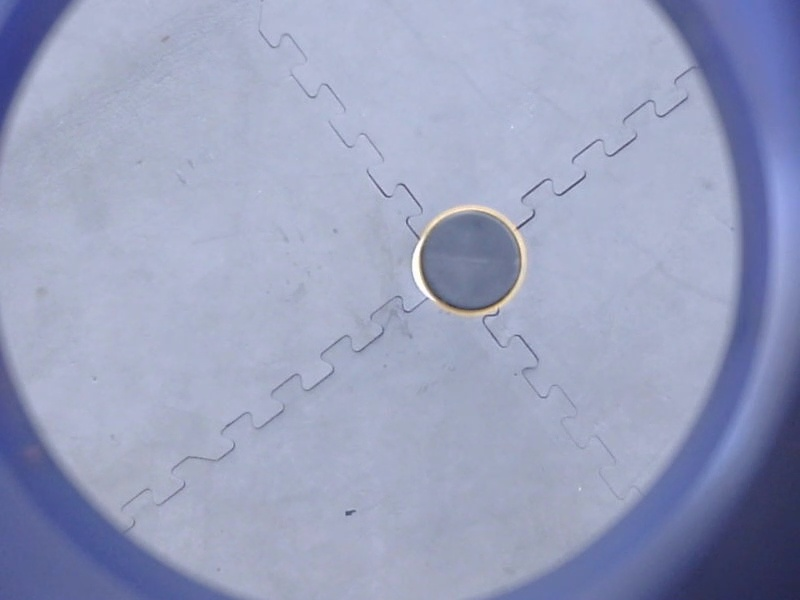tip: (408, 196, 537, 328)
